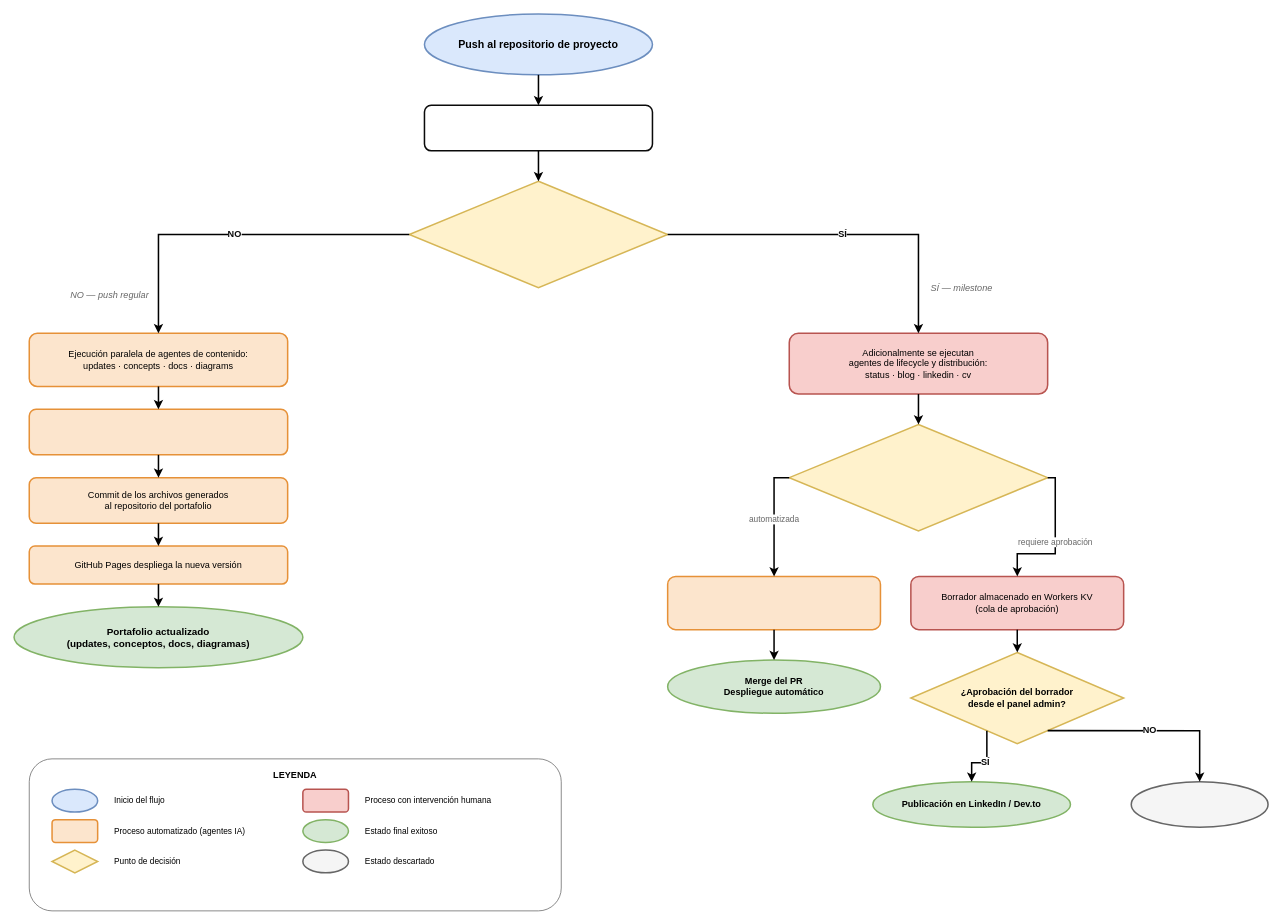
Image size: 1281x924. Some labels were removed from this diagram. The shapes that lost their labels are listed below. From the top down, each one's centre as x and y in pixels, then its label:
[538,127]: GitHub Actions detecta el evento
[538,234]: ¿El evento corresponde a un release tag (v1.x+)?
[158,431]: Cada agente invoca al modelo de IA para generar el contenido
[918,477]: ¿Salida automatizada o requiere aprobación?
[774,602]: Pull Request al repositorio del portafolio (status, resume.json → cv.pdf)
[1199,804]: Borrador descartado
